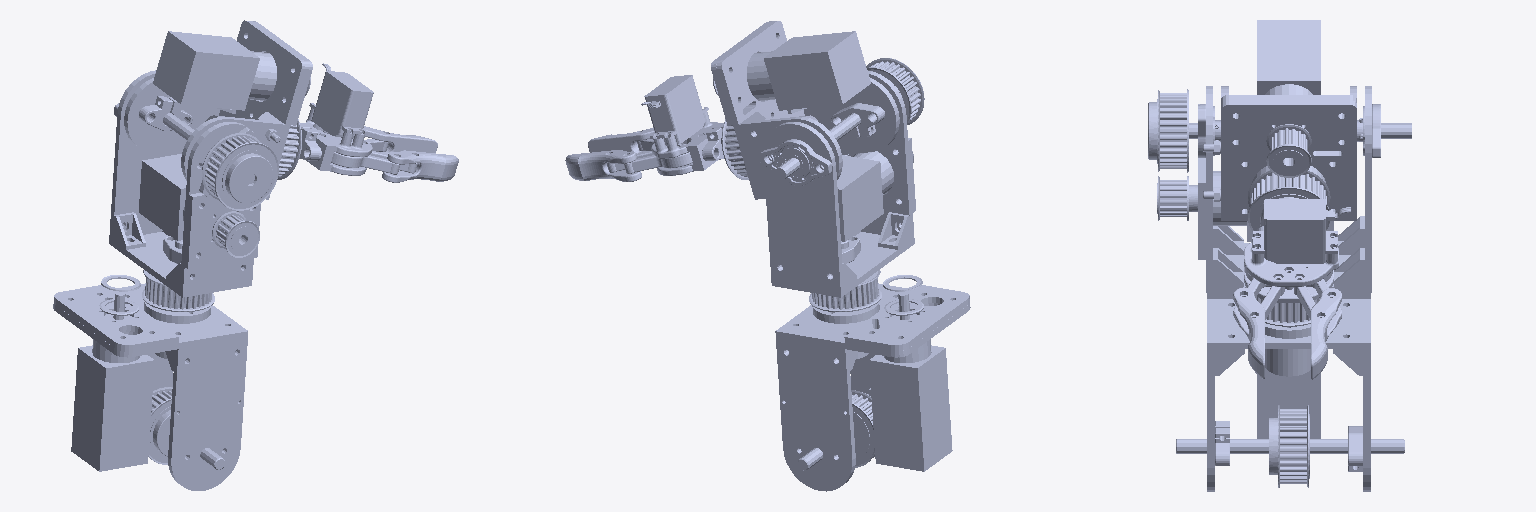
robot.urdf — urdf_v4:
<?xml version="1.0" encoding="utf-8"?>
<!-- This URDF was automatically created by SolidWorks to URDF Exporter! Originally created by [author] ([email redacted]) 
     Commit Version: 1.5.1-0-g916b5db  Build Version: 1.5.7152.31018
     For more information, please see http://wiki.ros.org/sw_urdf_exporter -->
<robot
  name="urdf_v4">
  <link
    name="base_link">
    <inertial>
      <origin
        xyz="0.104738735235867 0.417410917555489 0.0705351935511283"
        rpy="0 0 0" />
      <mass
        value="4.88235294107088" />
      <inertia
        ixx="0.291000607286691"
        ixy="1.52289167330543E-05"
        ixz="6.03263070059829E-05"
        iyy="0.00489217288290615"
        iyz="-1.59194184392821E-05"
        izz="0.291454001365492" />
    </inertial>
    <visual>
      <origin
        xyz="0 0 0"
        rpy="0 0 0" />
      <geometry>
        <mesh
          filename="package://urdf_v4/meshes/base_link.STL" />
      </geometry>
      <material
        name="">
        <color
          rgba="0.792156862745098 0.819607843137255 0.933333333333333 1" />
      </material>
    </visual>
    <collision>
      <origin
        xyz="0 0 0"
        rpy="0 0 0" />
      <geometry>
        <mesh
          filename="package://urdf_v4/meshes/base_link.STL" />
      </geometry>
    </collision>
  </link>
  <link
    name="link_1">
    <inertial>
      <origin
        xyz="-0.0567457117841195 -0.19576629956197 0.0972876048006108"
        rpy="0 0 0" />
      <mass
        value="1.46726468769425" />
      <inertia
        ixx="0.00207250585777412"
        ixy="8.11981107904141E-05"
        ixz="-7.72990821282457E-08"
        iyy="0.0038347397455328"
        iyz="1.83284662023371E-08"
        izz="0.00363944926443485" />
    </inertial>
    <visual>
      <origin
        xyz="0 0 0"
        rpy="0 0 0" />
      <geometry>
        <mesh
          filename="package://urdf_v4/meshes/link_1.STL" />
      </geometry>
      <material
        name="">
        <color
          rgba="0.792156862745098 0.819607843137255 0.933333333333333 1" />
      </material>
    </visual>
    <collision>
      <origin
        xyz="0 0 0"
        rpy="0 0 0" />
      <geometry>
        <mesh
          filename="package://urdf_v4/meshes/link_1.STL" />
      </geometry>
    </collision>
  </link>
  <joint
    name="j1"
    type="prismatic">
    <origin
      xyz="0.15 0 0"
      rpy="-1.5707963267949 0 0" />
    <parent
      link="base_link" />
    <child
      link="link_1" />
    <axis
      xyz="0 0 1" />
    <limit
      lower="0"
      upper="0.79145"
      effort="0"
      velocity="0" />
  </joint>
  <link
    name="link_2">
    <inertial>
      <origin
        xyz="-0.0611089070925748 -0.0058557781754916 0.370088071832499"
        rpy="0 0 0" />
      <mass
        value="1.10747346304024" />
      <inertia
        ixx="0.0019374443878502"
        ixy="-2.2881533983064E-10"
        ixz="-0.000121570833555971"
        iyy="0.0022718960976123"
        iyz="-1.69639987058859E-10"
        izz="0.00216260555043377" />
    </inertial>
    <visual>
      <origin
        xyz="0 0 0"
        rpy="0 0 0" />
      <geometry>
        <mesh
          filename="package://urdf_v4/meshes/link_2.STL" />
      </geometry>
      <material
        name="">
        <color
          rgba="0.792156862745098 0.819607843137255 0.933333333333333 1" />
      </material>
    </visual>
    <collision>
      <origin
        xyz="0 0 0"
        rpy="0 0 0" />
      <geometry>
        <mesh
          filename="package://urdf_v4/meshes/link_2.STL" />
      </geometry>
    </collision>
  </link>
  <joint
    name="j2"
    type="revolute">
    <origin
      xyz="0 0 0.0974999999999992"
      rpy="1.5707963267949 0 0" />
    <parent
      link="link_1" />
    <child
      link="link_2" />
    <axis
      xyz="0 0 -1" />
    <limit
      lower="-1.0472"
      upper="1.0472"
      effort="0"
      velocity="0" />
  </joint>
  <link
    name="link_3">
    <inertial>
      <origin
        xyz="-0.0753489063981556 -0.000543546747944101 -0.0140069113173543"
        rpy="0 0 0" />
      <mass
        value="0.515977161819168" />
      <inertia
        ixx="0.000839393068981715"
        ixy="-3.57070001740064E-06"
        ixz="-3.34802227455492E-06"
        iyy="0.00136393783588183"
        iyz="-5.30593171103856E-07"
        izz="0.000702659422844591" />
    </inertial>
    <visual>
      <origin
        xyz="0 0 0"
        rpy="0 0 0" />
      <geometry>
        <mesh
          filename="package://urdf_v4/meshes/link_3.STL" />
      </geometry>
      <material
        name="">
        <color
          rgba="0.792156862745098 0.819607843137255 0.933333333333333 1" />
      </material>
    </visual>
    <collision>
      <origin
        xyz="0 0 0"
        rpy="0 0 0" />
      <geometry>
        <mesh
          filename="package://urdf_v4/meshes/link_3.STL" />
      </geometry>
    </collision>
  </link>
  <joint
    name="j3"
    type="revolute">
    <origin
      xyz="0.00500157118937028 0 0.481000000000002"
      rpy="1.5707963267949 0 0" />
    <parent
      link="link_2" />
    <child
      link="link_3" />
    <axis
      xyz="0 0 -1" />
    <limit
      lower="0"
      upper="3.8222"
      effort="0"
      velocity="0" />
  </joint>
  <link
    name="link_4">
    <inertial>
      <origin
        xyz="-0.024427717408416 0.0452276486586658 -0.00625519975496755"
        rpy="0 0 0" />
      <mass
        value="0.412828994576042" />
      <inertia
        ixx="0.00037838483035347"
        ixy="-9.69191634661053E-06"
        ixz="-1.33277899237098E-06"
        iyy="0.000239267688957667"
        iyz="9.24018464165122E-08"
        izz="0.000358010896534731" />
    </inertial>
    <visual>
      <origin
        xyz="0 0 0"
        rpy="0 0 0" />
      <geometry>
        <mesh
          filename="package://urdf_v4/meshes/link_4.STL" />
      </geometry>
      <material
        name="">
        <color
          rgba="0.792156862745098 0.819607843137255 0.933333333333333 1" />
      </material>
    </visual>
    <collision>
      <origin
        xyz="0 0 0"
        rpy="0 0 0" />
      <geometry>
        <mesh
          filename="package://urdf_v4/meshes/link_4.STL" />
      </geometry>
    </collision>
  </link>
  <joint
    name="j4"
    type="revolute">
    <origin
      xyz="-0.189995508243746 -0.00130646362272735 0"
      rpy="0 0 0" />
    <parent
      link="link_3" />
    <child
      link="link_4" />
    <axis
      xyz="0 0 1" />
    <limit
      lower="0"
      upper="2.0769"
      effort="0"
      velocity="0" />
  </joint>
  <link
    name="link_5">
    <inertial>
      <origin
        xyz="-1.68683344550224E-05 -0.000988513747159081 0.173174560563642"
        rpy="0 0 0" />
      <mass
        value="0.329740905120229" />
      <inertia
        ixx="0.000223339440245811"
        ixy="1.65479343158088E-10"
        ixz="-1.53057023468896E-07"
        iyy="0.000171298231362621"
        iyz="-2.57546139104577E-10"
        izz="0.000174562371384966" />
    </inertial>
    <visual>
      <origin
        xyz="0 0 0"
        rpy="0 0 0" />
      <geometry>
        <mesh
          filename="package://urdf_v4/meshes/link_5.STL" />
      </geometry>
      <material
        name="">
        <color
          rgba="0.792156862745098 0.819607843137255 0.933333333333333 1" />
      </material>
    </visual>
    <collision>
      <origin
        xyz="0 0 0"
        rpy="0 0 0" />
      <geometry>
        <mesh
          filename="package://urdf_v4/meshes/link_5.STL" />
      </geometry>
    </collision>
  </link>
  <joint
    name="j5"
    type="revolute">
    <origin
      xyz="0 0 0"
      rpy="-1.5707963267949 0 -0.0692248748958731" />
    <parent
      link="link_4" />
    <child
      link="link_5" />
    <axis
      xyz="0 0 1" />
    <limit
      lower="-1.5708"
      upper="1.5708"
      effort="0"
      velocity="0" />
  </joint>
  <link
    name="link_6">
    <inertial>
      <origin
        xyz="0.0277775497919619 0.0189512956232296 0.00438416905841721"
        rpy="0 0 0" />
      <mass
        value="0.344235282958766" />
      <inertia
        ixx="0.00018979292217227"
        ixy="5.34728810824236E-06"
        ixz="2.86951659325191E-08"
        iyy="0.000204265164339293"
        iyz="8.71256631972934E-08"
        izz="0.000189887848809464" />
    </inertial>
    <visual>
      <origin
        xyz="0 0 0"
        rpy="0 0 0" />
      <geometry>
        <mesh
          filename="package://urdf_v4/meshes/link_6.STL" />
      </geometry>
      <material
        name="">
        <color
          rgba="0.792156862745098 0.819607843137255 0.933333333333333 1" />
      </material>
    </visual>
    <collision>
      <origin
        xyz="0 0 0"
        rpy="0 0 0" />
      <geometry>
        <mesh
          filename="package://urdf_v4/meshes/link_6.STL" />
      </geometry>
    </collision>
  </link>
  <joint
    name="j6"
    type="revolute">
    <origin
      xyz="0 0 0.238149000077621"
      rpy="1.5707963267949 -0.0692248748958731 0" />
    <parent
      link="link_5" />
    <child
      link="link_6" />
    <axis
      xyz="0 0 1" />
    <limit
      lower="0"
      upper="1.7802"
      effort="0"
      velocity="0" />
  </joint>
  <link
    name="link_7">
    <inertial>
      <origin
        xyz="0.000150696172452447 6.1953340818599E-08 0.077467189234414"
        rpy="0 0 0" />
      <mass
        value="0.0561348551321291" />
      <inertia
        ixx="1.48447412851102E-05"
        ixy="-7.69833971198315E-12"
        ixz="4.38646191436892E-11"
        iyy="1.45224199565723E-05"
        iyz="1.53299243204953E-11"
        izz="1.36484985399177E-05" />
    </inertial>
    <visual>
      <origin
        xyz="0 0 0"
        rpy="0 0 0" />
      <geometry>
        <mesh
          filename="package://urdf_v4/meshes/link_7.STL" />
      </geometry>
      <material
        name="">
        <color
          rgba="0.792156862745098 0.819607843137255 0.933333333333333 1" />
      </material>
    </visual>
    <collision>
      <origin
        xyz="0 0 0"
        rpy="0 0 0" />
      <geometry>
        <mesh
          filename="package://urdf_v4/meshes/link_7.STL" />
      </geometry>
    </collision>
  </link>
  <joint
    name="j7"
    type="revolute">
    <origin
      xyz="0 0 -0.00599999999999867"
      rpy="1.5707963267949 0 1.25259619670891" />
    <parent
      link="link_6" />
    <child
      link="link_7" />
    <axis
      xyz="0 0 1" />
    <limit
      lower="-3.1416"
      upper="3.1416"
      effort="0"
      velocity="0" />
  </joint>
  <link
    name="gripper">
    <inertial>
      <origin
        xyz="0.0109805346227796 -0.00113567084685404 -0.0639945410469132"
        rpy="0 0 0" />
      <mass
        value="0.101808315815359" />
      <inertia
        ixx="3.06655709273958E-05"
        ixy="-1.11049197272353E-07"
        ixz="-3.95068245703886E-08"
        iyy="2.39820769628035E-05"
        iyz="-8.81142747051076E-08"
        izz="2.10360267125375E-05" />
    </inertial>
    <visual>
      <origin
        xyz="0 0 0"
        rpy="0 0 0" />
      <geometry>
        <mesh
          filename="package://urdf_v4/meshes/gripper.STL" />
      </geometry>
      <material
        name="">
        <color
          rgba="0.792156862745098 0.819607843137255 0.933333333333333 1" />
      </material>
    </visual>
    <collision>
      <origin
        xyz="0 0 0"
        rpy="0 0 0" />
      <geometry>
        <mesh
          filename="package://urdf_v4/meshes/gripper.STL" />
      </geometry>
    </collision>
  </link>
  <joint
    name="j_gripper"
    type="fixed">
    <origin
      xyz="0 0 0.211150000000027"
      rpy="0 0 0" />
    <parent
      link="link_7" />
    <child
      link="gripper" />
    <axis
      xyz="0 0 0" />
  </joint>
</robot>

--- What the picture shows (computed from the rendered views, not written in the file) ---
Views: 3 orthographic renders of the robot side by side, from view 1: azimuth 30°, elevation 25°; view 2: azimuth 150°, elevation 25°; view 3: azimuth 270°, elevation 25°.
Model urdf_v4 with 9 links and 8 joints (6 revolute, 1 prismatic, 1 fixed), rooted at base_link, posed every joint at zero.
Visible links, largest first — view 1: link_4, link_6, link_5, gripper, link_7; view 2: link_4, link_5, link_6, gripper, link_7; view 3: link_6, link_4, gripper, link_5, link_7.
Link boxes in pixels (box(x1,y1,x2,y2)): link_4: box(53, 275, 247, 490); link_6: box(124, 20, 312, 210); link_5: box(109, 70, 260, 311); gripper: box(302, 63, 458, 182); link_7: box(277, 119, 321, 179); link_4: box(775, 275, 970, 491); link_5: box(760, 70, 915, 311); link_6: box(711, 21, 924, 199); gripper: box(565, 75, 722, 181); link_7: box(702, 119, 748, 179); link_6: box(1148, 20, 1411, 220); link_4: box(1176, 293, 1404, 491); gripper: box(1233, 199, 1350, 379); link_5: box(1157, 86, 1380, 326); link_7: box(1248, 170, 1330, 231).
Bounding box of the posed robot: 0.3132 × 0.174 × 0.3454 m (x, y, z).
Meshes: 9 distinct files referenced, 5 mesh visuals loaded (5 binary STL); not drawn: 4 (reference not matched to a file when rendering).